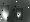person: (2, 6, 10, 22), (17, 9, 24, 21)
